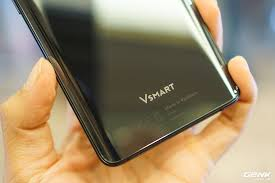vsmart: (13, 1, 248, 166)
